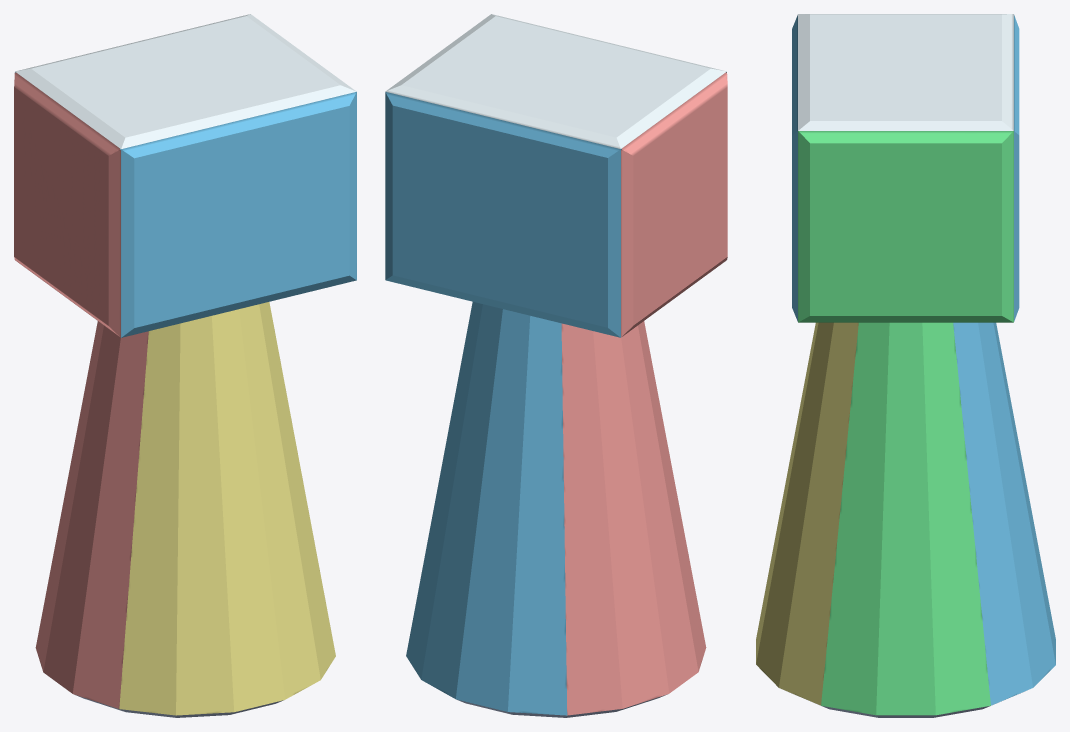
The model's file is npc.obj.
The picture shows the model from 3 angles, left to right: view 1: azimuth 30°, elevation 25°; view 2: azimuth 150°, elevation 25°; view 3: azimuth 270°, elevation 25°; orthographic projection.
Parts seen in each view (by area): view 1: cylinder, mesh; view 2: cylinder, mesh; view 3: cylinder, mesh.
Part boxes in pixels (x1,y1,x2,y2): cylinder: [35, 302, 335, 717]; mesh: [14, 14, 356, 337]; cylinder: [406, 302, 706, 717]; mesh: [385, 14, 727, 337]; cylinder: [756, 322, 1055, 717]; mesh: [792, 14, 1019, 322].
Size of the model in its own units: 3.38 by 7.36 by 3.38.
Materials: 1 (1 with a texture image).
